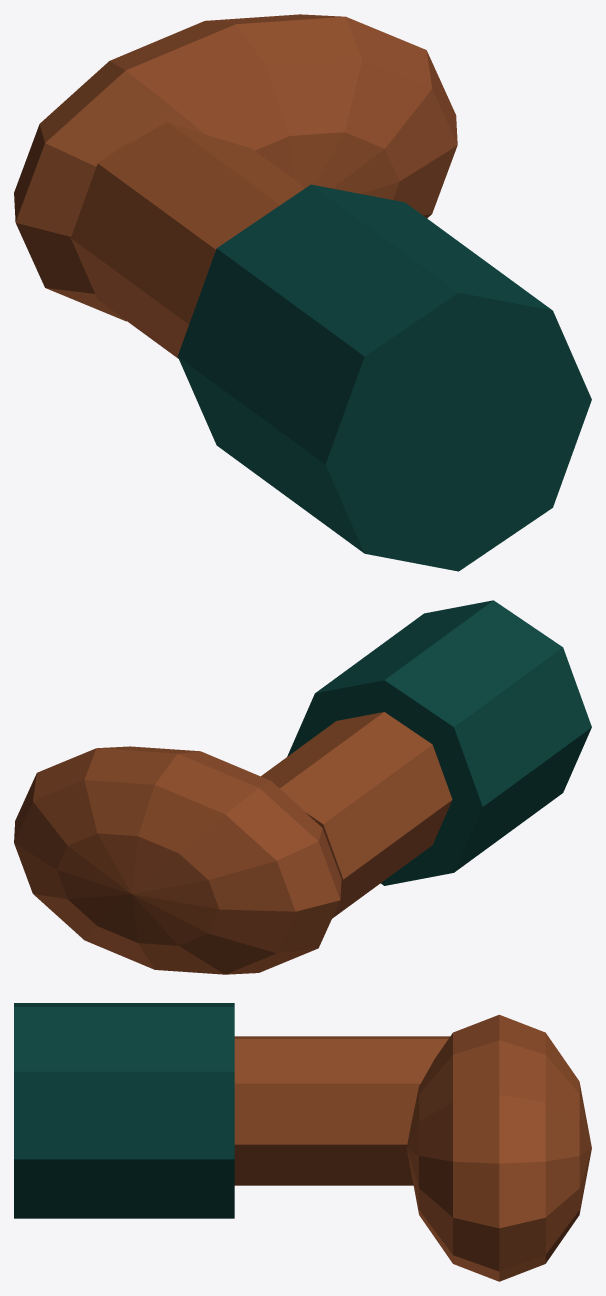
The model's file is Resident9RightLeg.obj.
3 renders of one model, top to bottom at view 1: azimuth 30°, elevation 25°; view 2: azimuth 150°, elevation 25°; view 3: azimuth 270°, elevation 25°, orthographic. The views are drawn at different scales.
Parts seen in each view (by area): view 1: Resident9RightLeg; view 2: Resident9RightLeg; view 3: Resident9RightLeg.
Boxes of the visible parts, <box> form: Resident9RightLeg: <box>14,14,591,571</box>; Resident9RightLeg: <box>14,600,591,974</box>; Resident9RightLeg: <box>14,1003,591,1281</box>.
Size of the model in its own units: 44.5 by 27 by 65.5.
